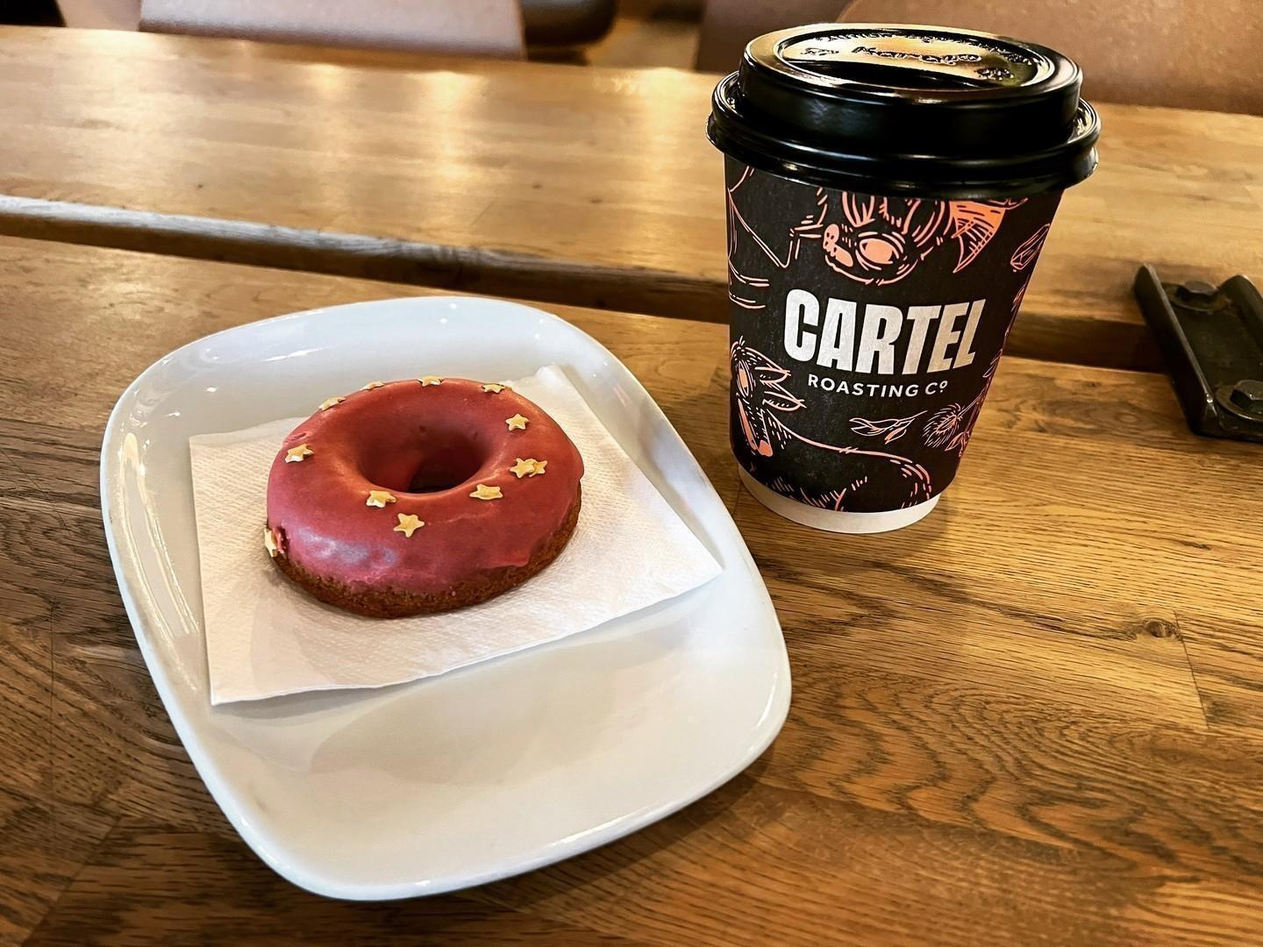cup-disposable: (698, 11, 1104, 546)
